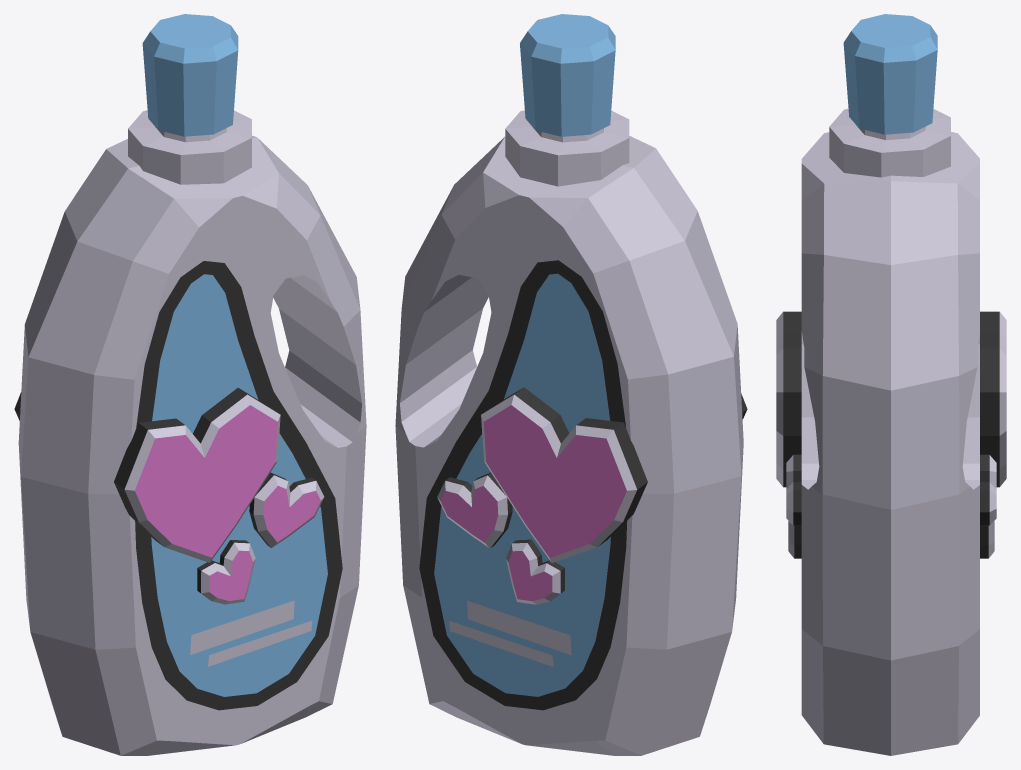
Rendered from Item_Life.fbx.
3 views of the same model, side by side, from view 1: azimuth 30°, elevation 25°; view 2: azimuth 150°, elevation 25°; view 3: azimuth 270°, elevation 25° (orthographic).
Visible parts, largest first — view 1: Item_Life, Cube.010, Cube.008, Cylinder.014; view 2: Item_Life, Cube.010, Cube.008, Cylinder.014; view 3: Item_Life, Cylinder.014, Cube.008.
Boxes of the visible parts, left/top/right/bottom form: Item_Life: left=18, top=135, right=366, bottom=755; Cube.010: left=135, top=261, right=342, bottom=710; Cube.008: left=14, top=388, right=324, bottom=666; Cylinder.014: left=128, top=14, right=251, bottom=184; Item_Life: left=395, top=136, right=743, bottom=755; Cube.010: left=419, top=260, right=627, bottom=710; Cube.008: left=437, top=387, right=747, bottom=667; Cylinder.014: left=505, top=14, right=629, bottom=186; Item_Life: left=801, top=132, right=979, bottom=755; Cylinder.014: left=829, top=14, right=950, bottom=177; Cube.008: left=776, top=311, right=1006, bottom=558.
Bounding box in the file's own units: 46.12 × 87.27 × 27.27.
